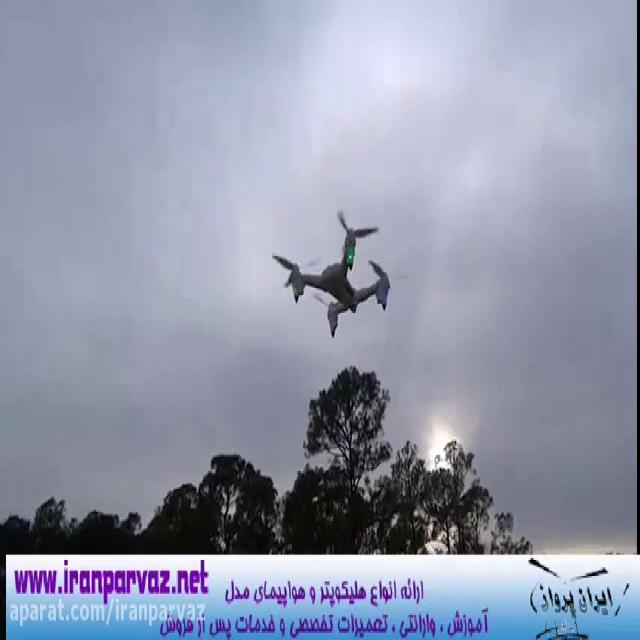drone: (267, 205, 410, 342)
